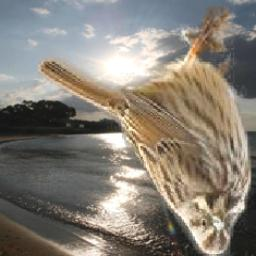Sparrow: (38, 5, 254, 256)
